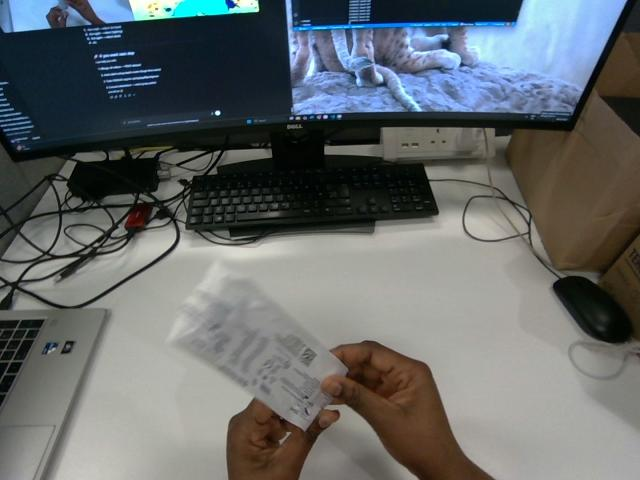syringe: (168, 262, 347, 429)
